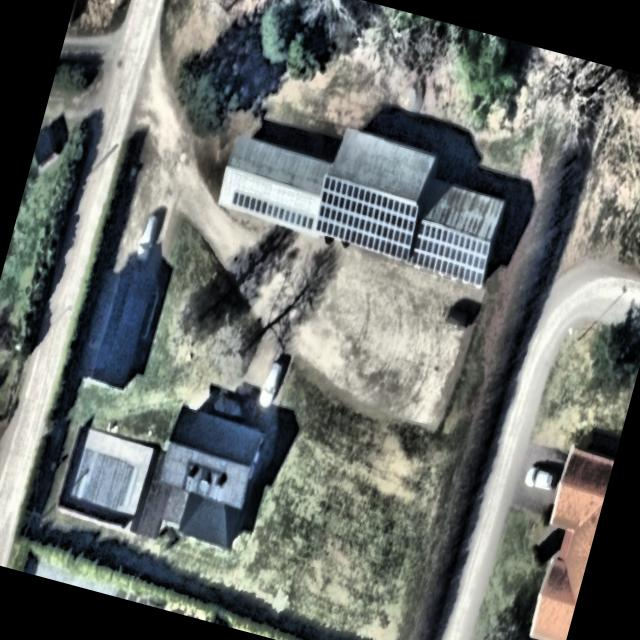roof_pv: (309, 174, 425, 262), (404, 215, 496, 292), (228, 185, 319, 239)
